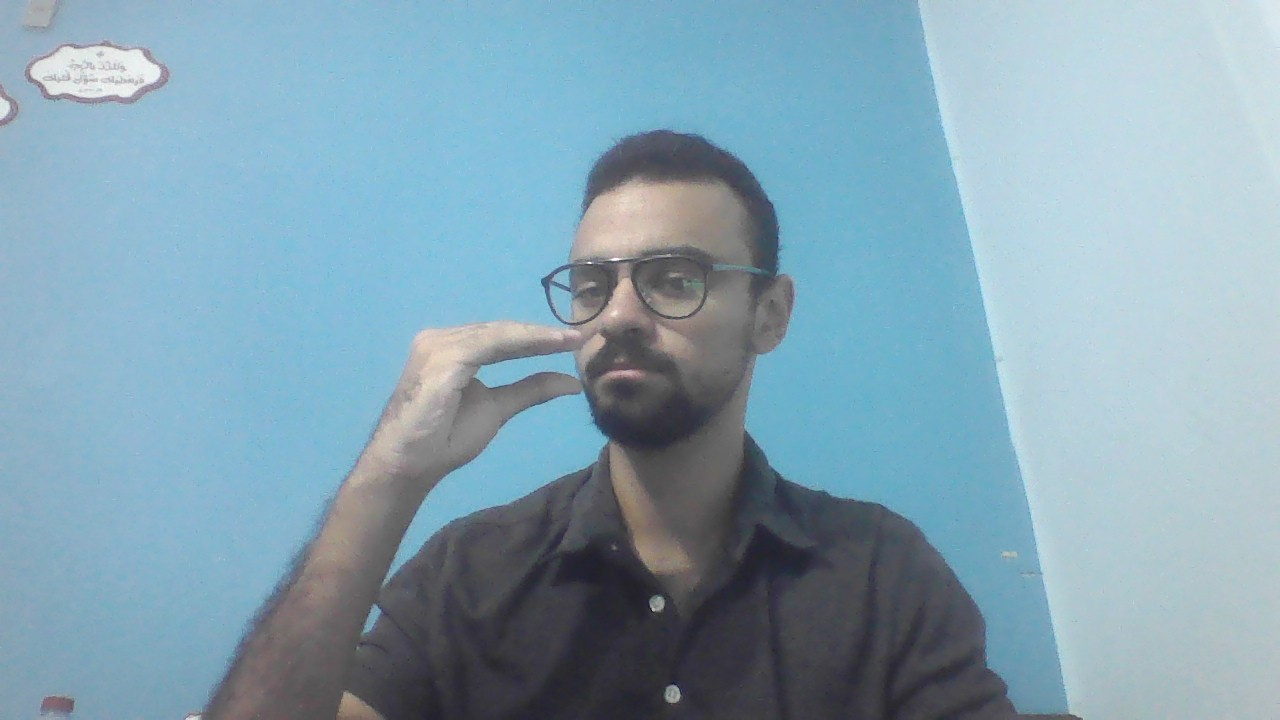eat: (379, 319, 592, 473)
